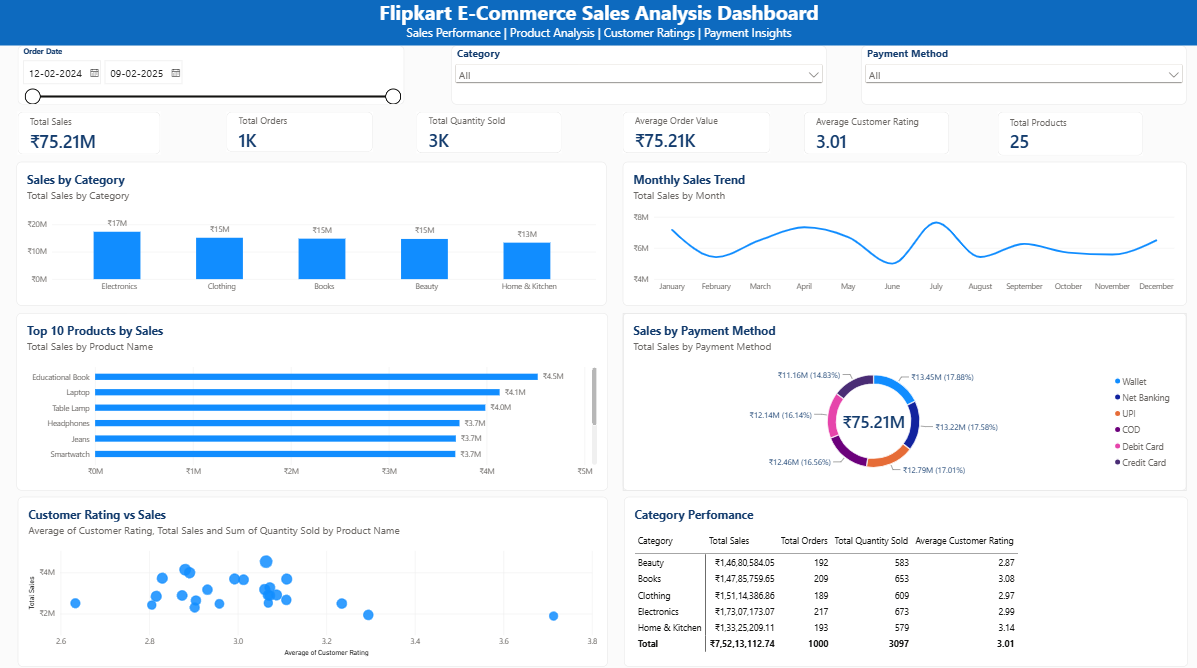

This screenshot's page, from the dashboard's own definition file:
{"tool":"powerbi","page":{"name":"Page 1","canvas":[1920,1080],"ordinal":0},"visuals":[{"type":"cardVisual","fields":{"Data":["flipkart_analysis.Total Sales"]},"box":[30,182,228,68],"z":0},{"type":"cardVisual","fields":{"Data":["flipkart_analysis.Total Orders"]},"box":[364,182,234,64],"z":1000},{"type":"cardVisual","fields":{"Data":["flipkart_analysis.Total Quantity Sold"]},"box":[668,182,232,66],"z":2000},{"type":"cardVisual","fields":{"Data":["flipkart_analysis.Average Order Value"]},"box":[998,182,236,66],"z":3000},{"type":"cardVisual","fields":{"Data":["flipkart_analysis.Average Customer Rating"]},"box":[1288,182,232,68],"z":4000},{"type":"clusteredColumnChart","title":"Sales by Category","fields":{"Category":["flipkart_analysis.Category"],"Y":["flipkart_analysis.Total Sales"]},"box":[28,262,944,230],"z":5000},{"type":"lineChart","title":"Monthly Sales Trend","fields":{"Y":["flipkart_analysis.Total Sales"],"Category":["flipkart_analysis.Order Date.Variation.Date Hierarchy.Month"]},"box":[998,262,902,230],"z":6000},{"type":"clusteredBarChart","title":"Top 10 Products by Sales","fields":{"Category":["flipkart_analysis.Product Name"],"Y":["flipkart_analysis.Total Sales"]},"box":[28,504,946,284],"z":7000},{"type":"donutChart","title":"Sales by Payment Method","fields":{"Category":["flipkart_analysis.Payment Method"],"Y":["flipkart_analysis.Total Sales"]},"box":[998,504,902,284],"z":8000},{"type":"scatterChart","title":"Customer Rating vs Sales","fields":{"X":["Avg(flipkart_analysis.Customer Rating)"],"Y":["flipkart_analysis.Total Sales"],"Size":["Sum(flipkart_analysis.Quantity Sold)"],"Category":["flipkart_analysis.Product Name"]},"box":[30,798,944,272],"z":9000},{"type":"pivotTable","title":"Category Perfomance","fields":{"Rows":["flipkart_analysis.Category"],"Values":["flipkart_analysis.Total Sales","flipkart_analysis.Total Orders","flipkart_analysis.Total Quantity Sold","flipkart_analysis.Average Customer Rating"]},"box":[1000,798,902,272],"z":10000},{"type":"slicer","fields":{"Values":["flipkart_analysis.Category"]},"box":[724,76,600,94],"z":11000},{"type":"slicer","fields":{"Values":["flipkart_analysis.Payment Method"]},"box":[1380,76,520,94],"z":12000},{"type":"slicer","fields":{"Values":["flipkart_analysis.Order Date"]},"box":[30,76,618,94],"z":13000},{"type":"textbox","box":[0,0,1920,76],"z":14000},{"type":"cardVisual","fields":{"Data":["flipkart_analysis.Total Products"]},"box":[1598,182,232,70],"z":15000}]}

Visuals, with their boxes in screenshot pixels (x1, y1, x2, y2), scaled from the page's 1920x1080 canvas onto the 1197x668 screenshot:
cardVisual - flipkart_analysis.Total Sales: {"x1": 19, "y1": 113, "x2": 161, "y2": 155}
cardVisual - flipkart_analysis.Total Orders: {"x1": 227, "y1": 113, "x2": 373, "y2": 152}
cardVisual - flipkart_analysis.Total Quantity Sold: {"x1": 416, "y1": 113, "x2": 561, "y2": 153}
cardVisual - flipkart_analysis.Average Order Value: {"x1": 622, "y1": 113, "x2": 769, "y2": 153}
cardVisual - flipkart_analysis.Average Customer Rating: {"x1": 803, "y1": 113, "x2": 948, "y2": 155}
"Sales by Category" clusteredColumnChart: {"x1": 17, "y1": 162, "x2": 606, "y2": 304}
"Monthly Sales Trend" lineChart: {"x1": 622, "y1": 162, "x2": 1185, "y2": 304}
"Top 10 Products by Sales" clusteredBarChart: {"x1": 17, "y1": 312, "x2": 607, "y2": 487}
"Sales by Payment Method" donutChart: {"x1": 622, "y1": 312, "x2": 1185, "y2": 487}
"Customer Rating vs Sales" scatterChart: {"x1": 19, "y1": 494, "x2": 607, "y2": 662}
"Category Perfomance" pivotTable: {"x1": 623, "y1": 494, "x2": 1186, "y2": 662}
slicer - flipkart_analysis.Category: {"x1": 451, "y1": 47, "x2": 825, "y2": 105}
slicer - flipkart_analysis.Payment Method: {"x1": 860, "y1": 47, "x2": 1185, "y2": 105}
slicer - flipkart_analysis.Order Date: {"x1": 19, "y1": 47, "x2": 404, "y2": 105}
textbox: {"x1": 0, "y1": 0, "x2": 1196, "y2": 47}
cardVisual - flipkart_analysis.Total Products: {"x1": 996, "y1": 113, "x2": 1141, "y2": 156}
